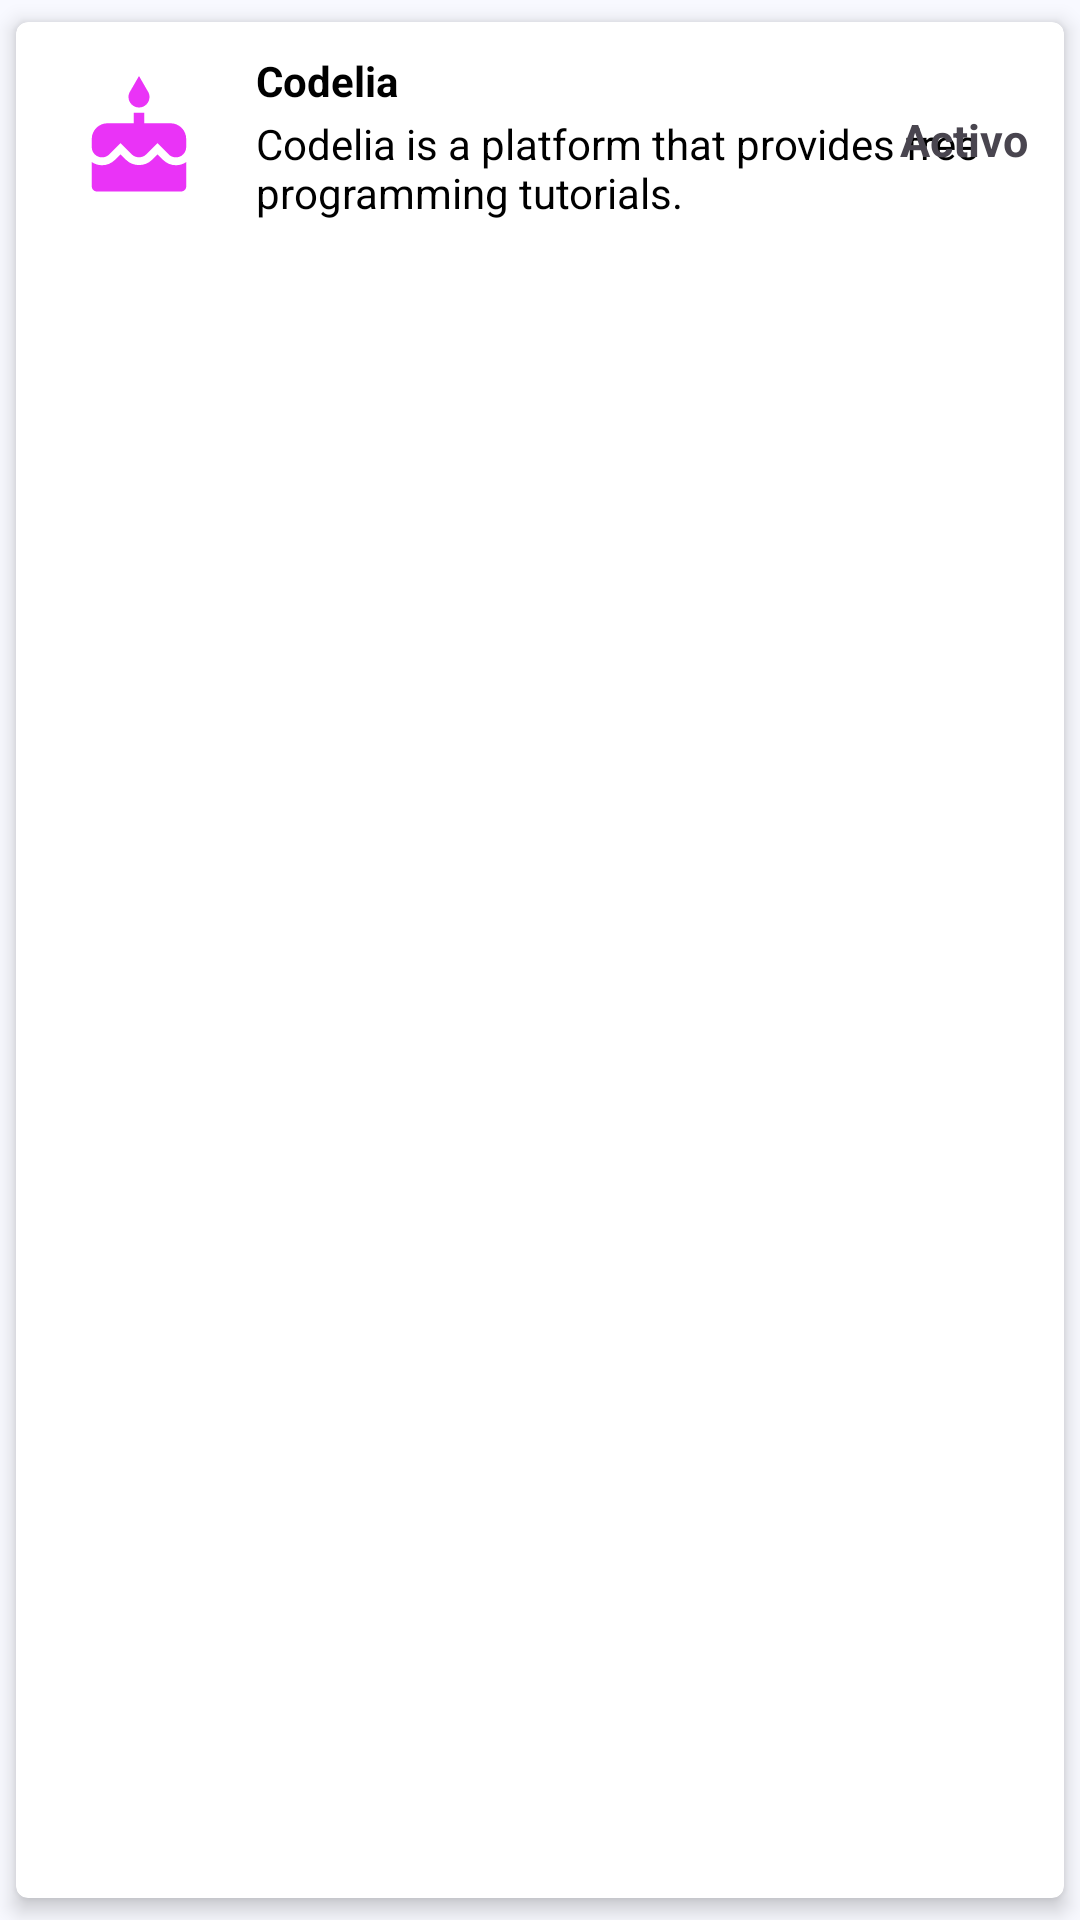

Named icons in this screenshot (1080px×1920px) and their centers, [x,y]:
cake ea: [139,134]
